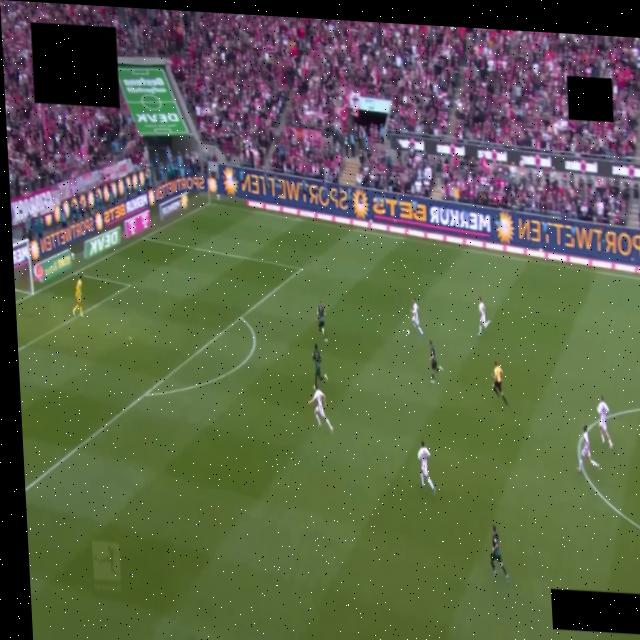ball: (406, 330, 410, 336)
player: (307, 385, 331, 432), (576, 425, 599, 472), (489, 525, 508, 581), (417, 441, 434, 493), (596, 395, 612, 448), (492, 361, 507, 407), (311, 344, 327, 384), (428, 340, 442, 384), (316, 300, 327, 341), (478, 297, 489, 336), (411, 298, 422, 336), (72, 275, 82, 316)
referee: (492, 361, 507, 407)
